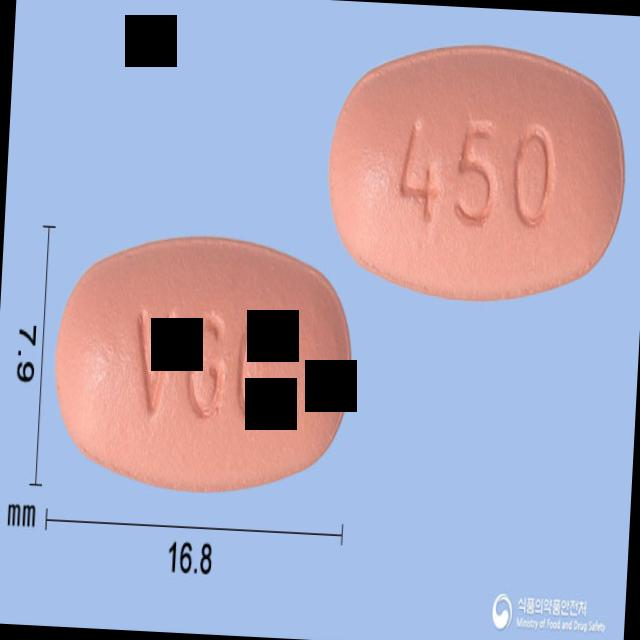Valcyte Tab: (322, 33, 634, 310), (48, 226, 358, 502)
